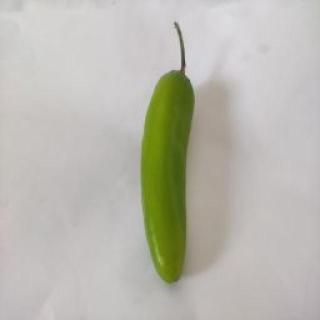Cabai Hijau: (139, 19, 201, 289)
